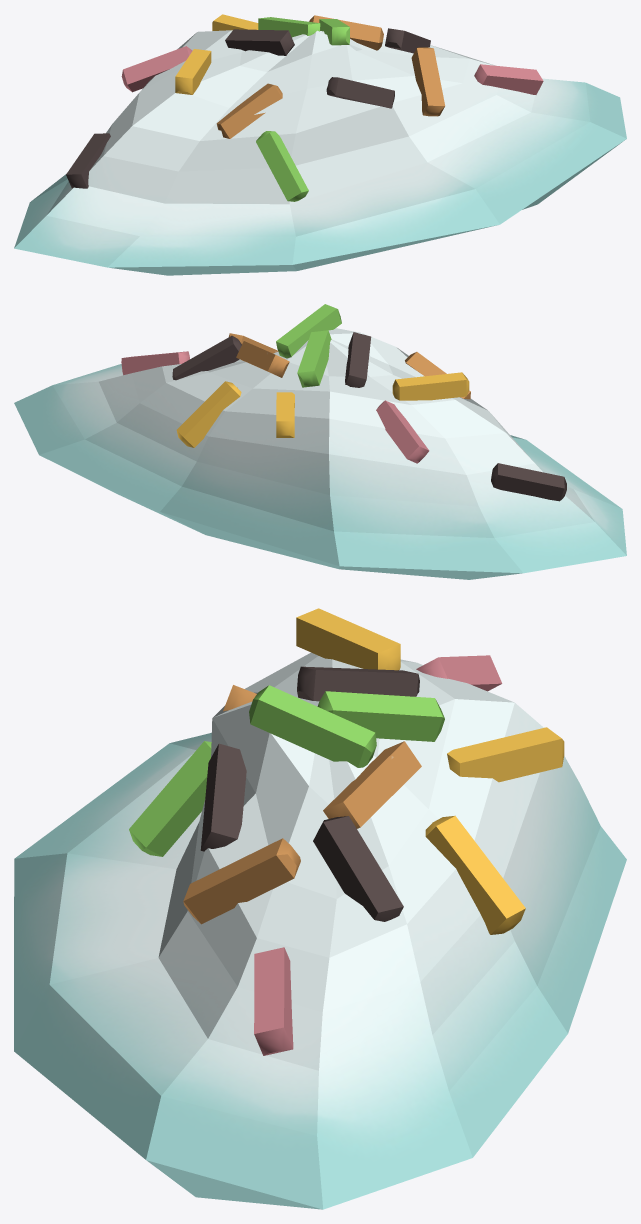
File: shabed04.fbx
The picture shows the model from 3 angles, top to bottom: view 1: azimuth 30°, elevation 25°; view 2: azimuth 150°, elevation 25°; view 3: azimuth 270°, elevation 25°; orthographic projection. The views are drawn at different scales.
Parts seen in each view (by area): view 1: shabed04; view 2: shabed04; view 3: shabed04.
Boxes of the visible parts, x1=… form: shabed04: x1=14, y1=14, x2=626, y2=275; shabed04: x1=14, y1=304, x2=626, y2=579; shabed04: x1=14, y1=608, x2=626, y2=1209.
Size of the model in its own units: 618 by 211 by 313.
